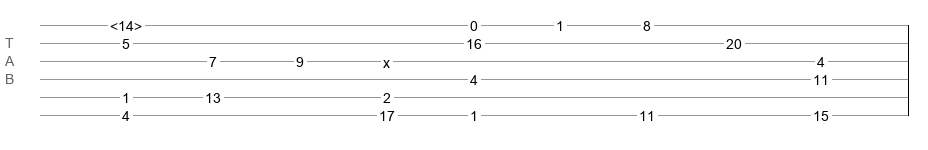0: (470, 18, 478, 28)
1: (122, 90, 130, 100), (470, 108, 478, 118), (556, 18, 564, 28)
11: (639, 108, 655, 118), (813, 72, 829, 82)
13: (205, 90, 221, 100)
15: (813, 108, 829, 118)
16: (466, 36, 482, 46)
17: (379, 108, 395, 118)
2: (383, 90, 391, 100)
20: (726, 36, 742, 46)
4: (122, 108, 130, 118), (470, 72, 478, 82), (817, 54, 825, 64)
5: (122, 36, 130, 46)
7: (209, 54, 217, 64)
8: (643, 18, 651, 28)
9: (296, 54, 304, 64)
harmonic: (110, 18, 142, 28)
x: (383, 55, 390, 63)
